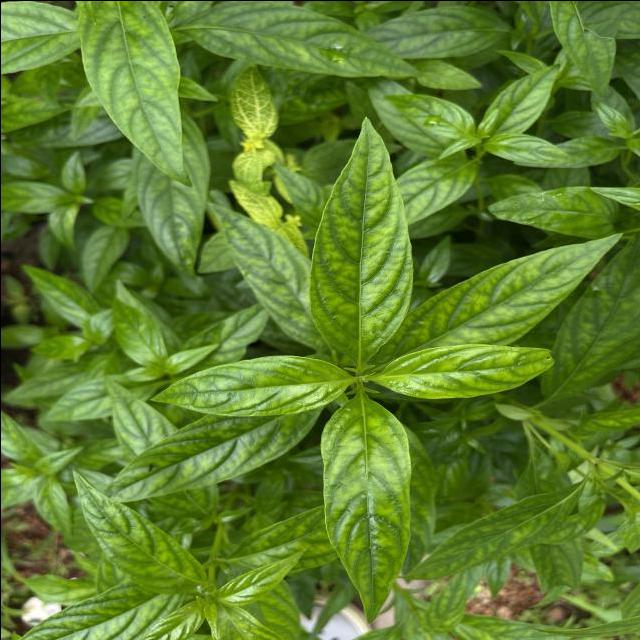Andrographis paniculata: (306, 111, 414, 363), (398, 231, 623, 348), (78, 0, 194, 193), (321, 392, 414, 626), (100, 406, 322, 504), (65, 468, 208, 606), (408, 476, 586, 586), (188, 0, 426, 80), (542, 231, 640, 410), (201, 198, 313, 344), (146, 351, 352, 418), (377, 340, 555, 398), (363, 1, 507, 57), (477, 184, 610, 241), (482, 61, 564, 136), (377, 90, 471, 142), (109, 294, 168, 369)
